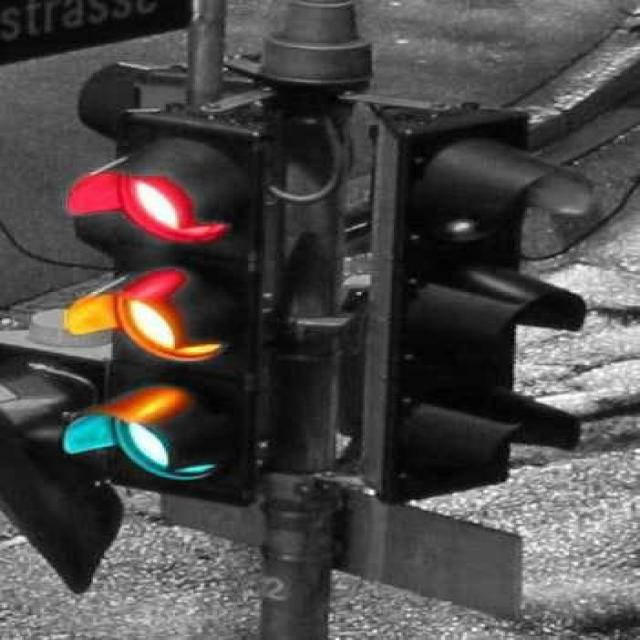Traffic Light -Green-: (53, 381, 246, 503)
Traffic Light -Red-: (52, 120, 270, 256)
Traffic Light -Yellow-: (53, 266, 249, 371)
